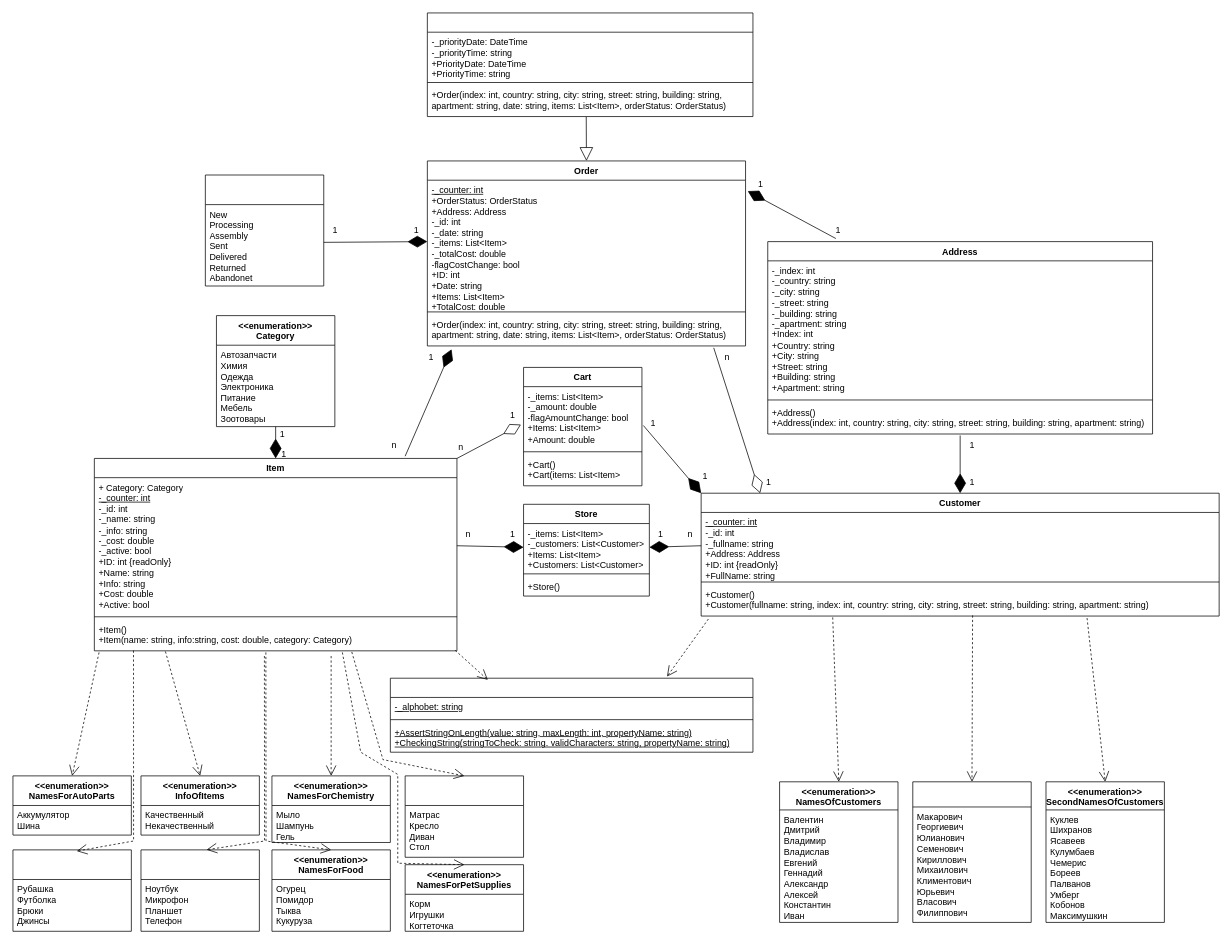
Some shapes in this 1232 by 946 pixel diagram are drawn without their labels. The shapes that lost their labels are listed below. From the top down, each one's box as (x1, y1, x2, y2) in pixels, then its label:
(427, 12, 753, 117): PriorityOrder
(205, 174, 324, 286): <<enumerator>> OrderStatus
(390, 677, 753, 752): ValueValidator
(404, 775, 524, 857): <<enumeration>> NamesForFurniture
(912, 781, 1031, 922): <<enumeration>> PatronymicsOfCustomers
(12, 849, 131, 931): <<enumeration>> NamesForClothes
(140, 849, 259, 931): <<enumeration>> NamesForElectronics
